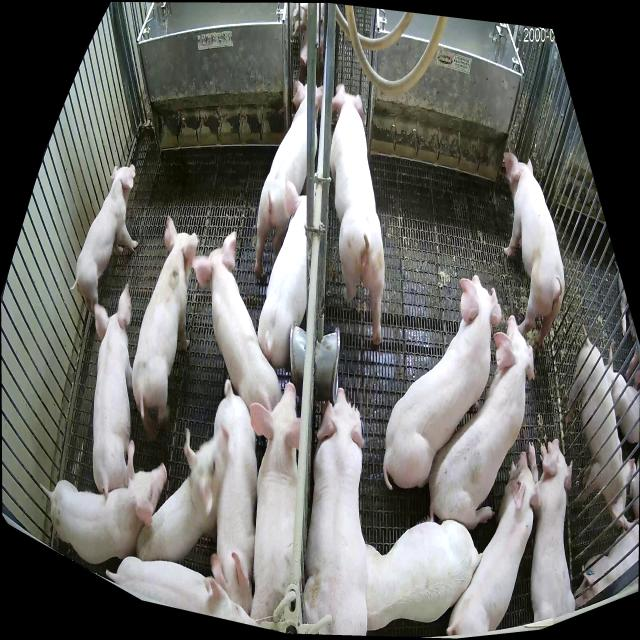pig: (384, 274, 502, 489), (430, 314, 536, 530), (446, 451, 542, 633), (304, 384, 368, 638), (192, 232, 282, 411), (40, 440, 167, 565), (132, 216, 198, 430), (330, 83, 384, 344), (255, 81, 323, 277), (363, 519, 481, 630), (250, 382, 301, 623), (138, 425, 227, 561), (503, 154, 564, 347), (212, 380, 258, 615), (106, 557, 258, 627), (70, 165, 137, 317), (258, 179, 307, 369), (529, 439, 575, 622), (93, 284, 133, 492)
